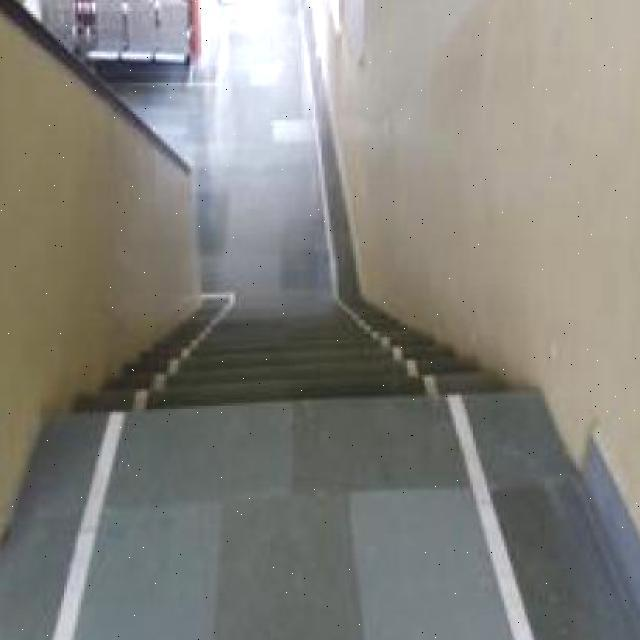stair: (50, 303, 514, 437)
